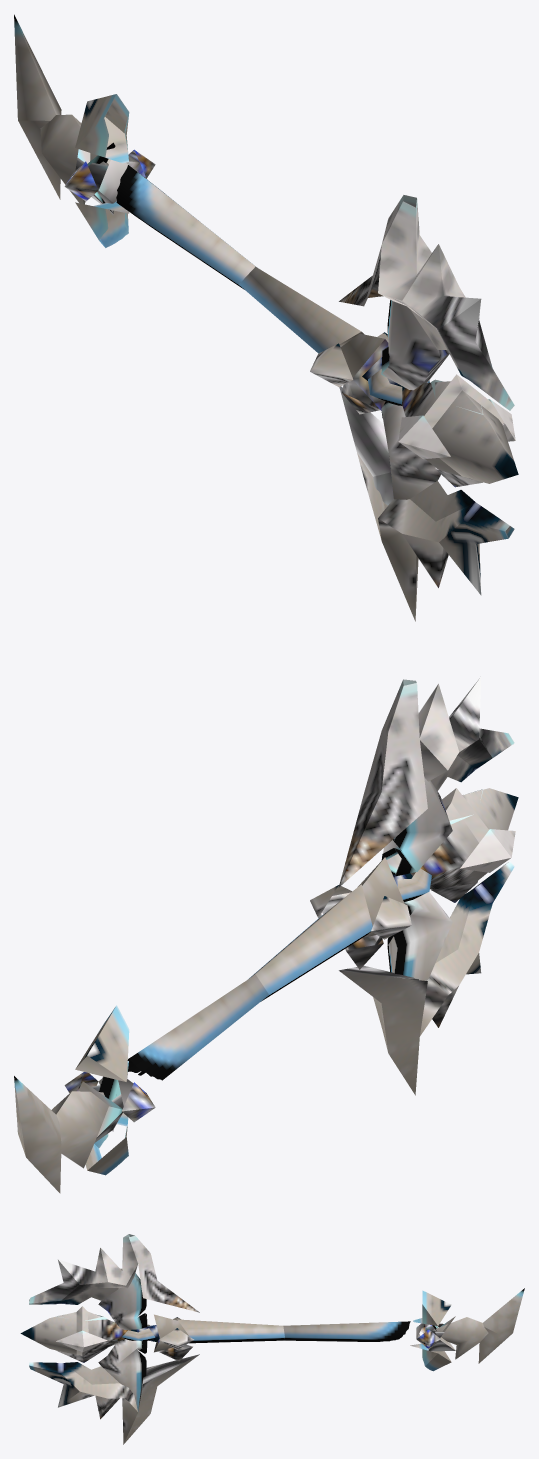
3 views of the same model, one above another, from view 1: azimuth 30°, elevation 25°; view 2: azimuth 150°, elevation 25°; view 3: azimuth 270°, elevation 25° (orthographic). The views are drawn at different scales.
Parts seen in each view (by area): view 1: mRod; view 2: mRod; view 3: mRod.
Part boxes in pixels (bbox=[...]): mRod: bbox=[14, 14, 518, 621]; mRod: bbox=[14, 676, 518, 1193]; mRod: bbox=[20, 1234, 524, 1444].
Size of the model in its own units: 0.1305 by 0.4907 by 1.02.
